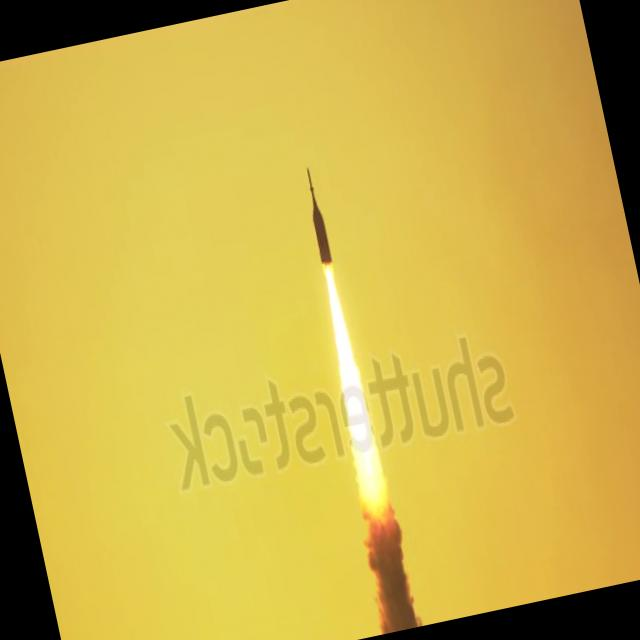rocket: (292, 161, 385, 472)
